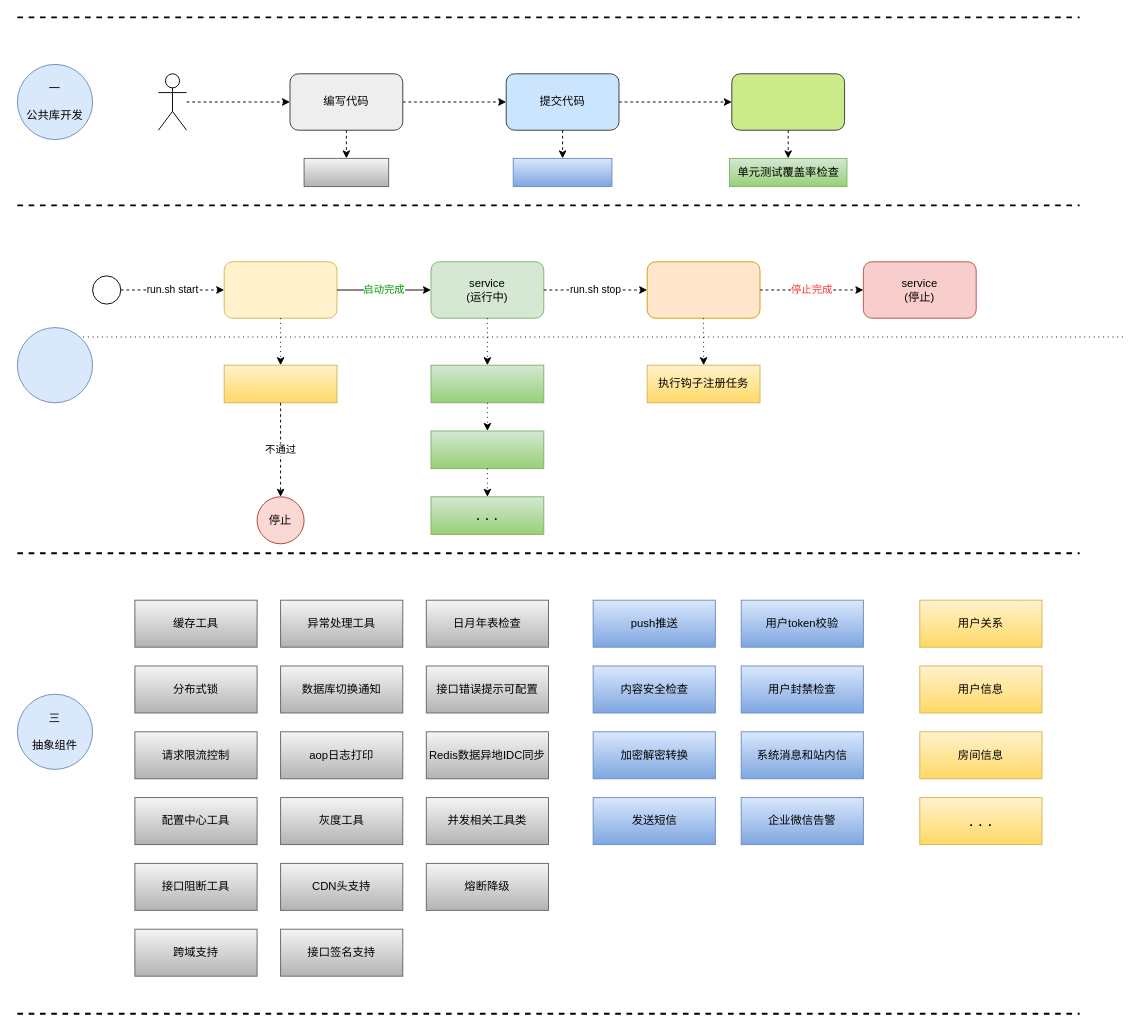
The diagram is 1144 pixels wide and 1031 high, and some of its shapes have lost their labels. Here are the shapes that lost their labels. From the top down, the centre of each, then its label:
pixel 172 101: 开发
pixel 788 101: 推送仓库
pixel 346 172: JMH测试
pixel 562 172: 规范message格式
pixel 280 289: service (启动中)
pixel 703 289: service (停止中)
pixel 54 365: 二 服务运行
pixel 280 383: 1、检查代码和配置
pixel 487 383: 1、接口阻断检查
pixel 487 449: 2、登录态检查
